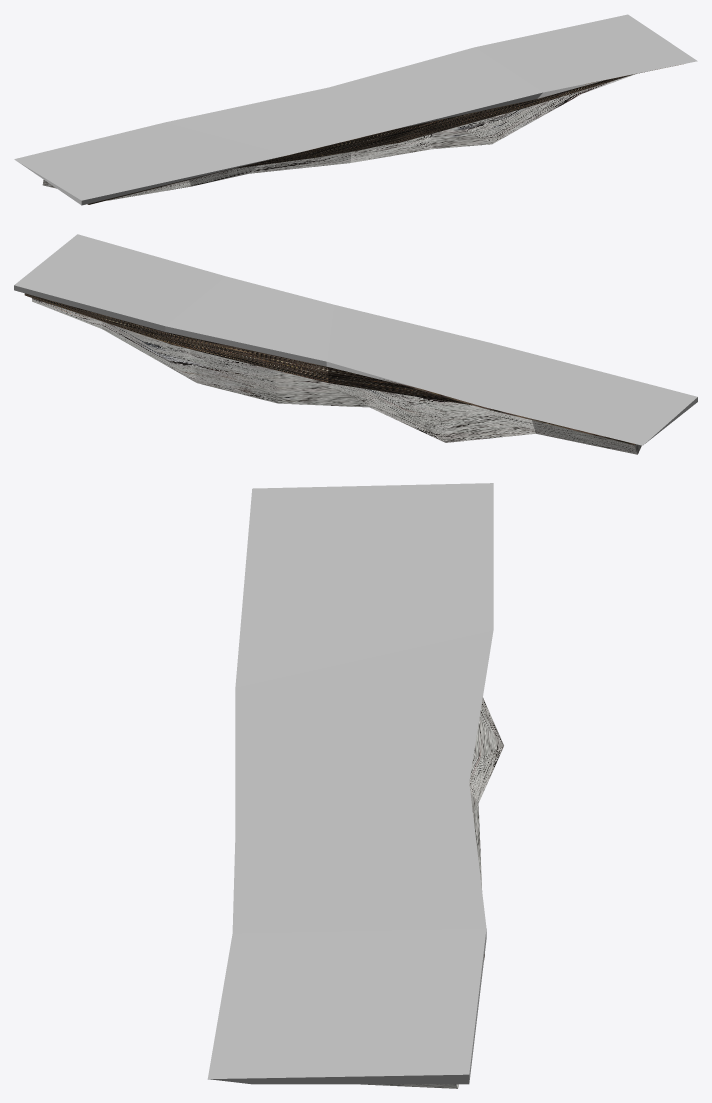
File: platform4.fbx
The picture shows the model from 3 angles, top to bottom: view 1: azimuth 30°, elevation 25°; view 2: azimuth 150°, elevation 25°; view 3: azimuth 270°, elevation 25°; orthographic projection. The views are drawn at different scales.
Parts seen in each view (by area): view 1: Kostka, Cube, Kostka.001; view 2: Kostka, Cube, Kostka.001; view 3: Kostka, Cube.
Part boxes in pixels (x1,y1,x2,y2): Kostka: [14, 14, 697, 205]; Cube: [42, 74, 635, 200]; Kostka.001: [87, 64, 683, 204]; Kostka: [14, 234, 697, 445]; Cube: [32, 298, 641, 454]; Kostka.001: [24, 293, 635, 444]; Kostka: [207, 483, 493, 1084]; Cube: [361, 698, 503, 1088].
Bounding box in the file's own units: 1599 × 127 × 335.
